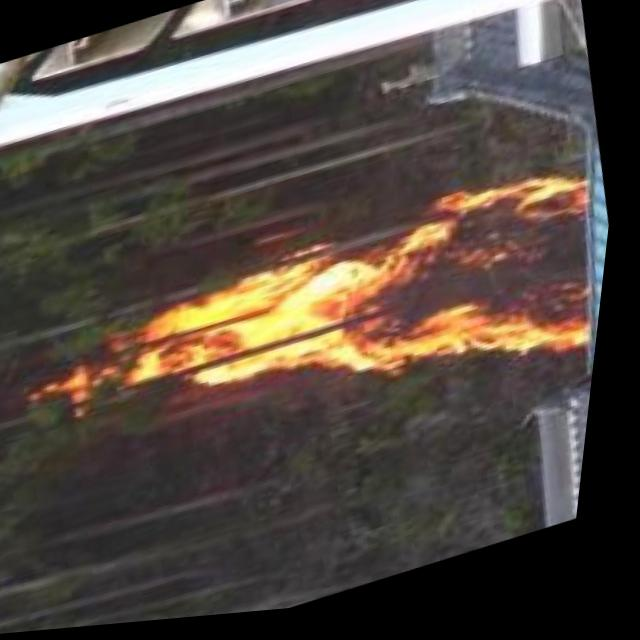Fire: (117, 170, 617, 476)
